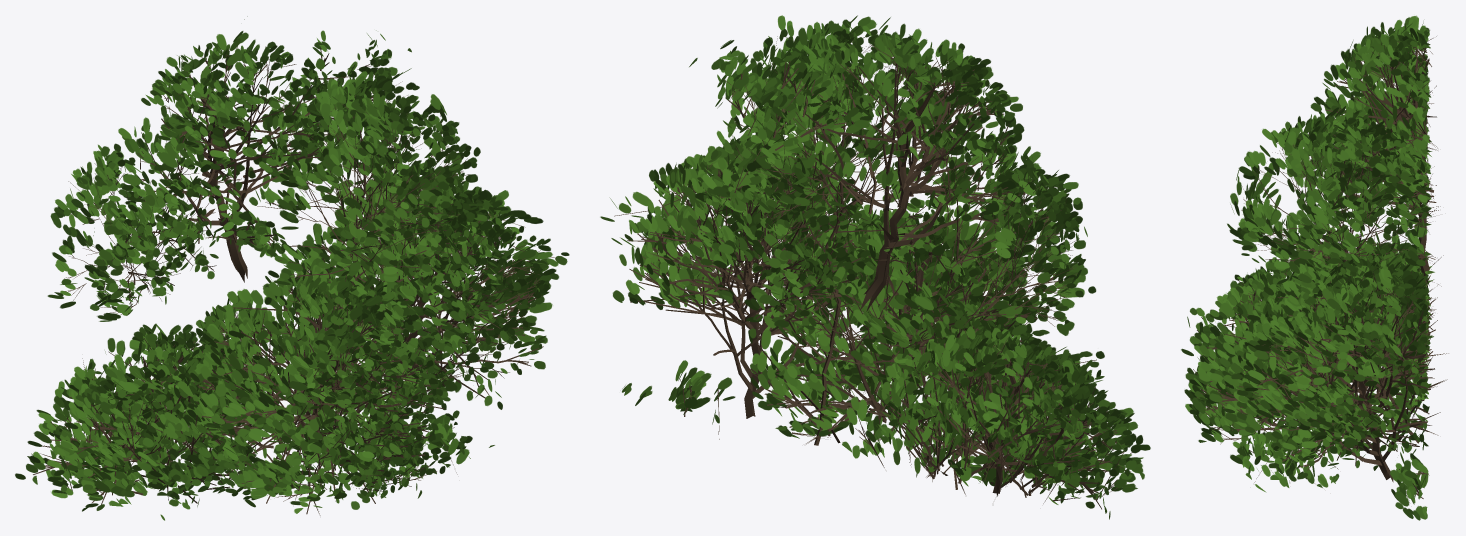
3 views of the same model, side by side, from view 1: azimuth 30°, elevation 25°; view 2: azimuth 150°, elevation 25°; view 3: azimuth 270°, elevation 25° (orthographic). The views are drawn at different scales.
Visible parts, largest first — view 1: oak 01.001_trunk_Mat.001_0.236; view 2: oak 01.001_trunk_Mat.001_0.236; view 3: oak 01.001_trunk_Mat.001_0.236.
Boxes of the visible parts, bbox=[...] form: oak 01.001_trunk_Mat.001_0.236: bbox=[15, 16, 569, 520]; oak 01.001_trunk_Mat.001_0.236: bbox=[600, 15, 1150, 519]; oak 01.001_trunk_Mat.001_0.236: bbox=[1181, 15, 1448, 520].
Size of the model in its own units: 6 by 5.03 by 3.03.
2 materials, 1 textured.
